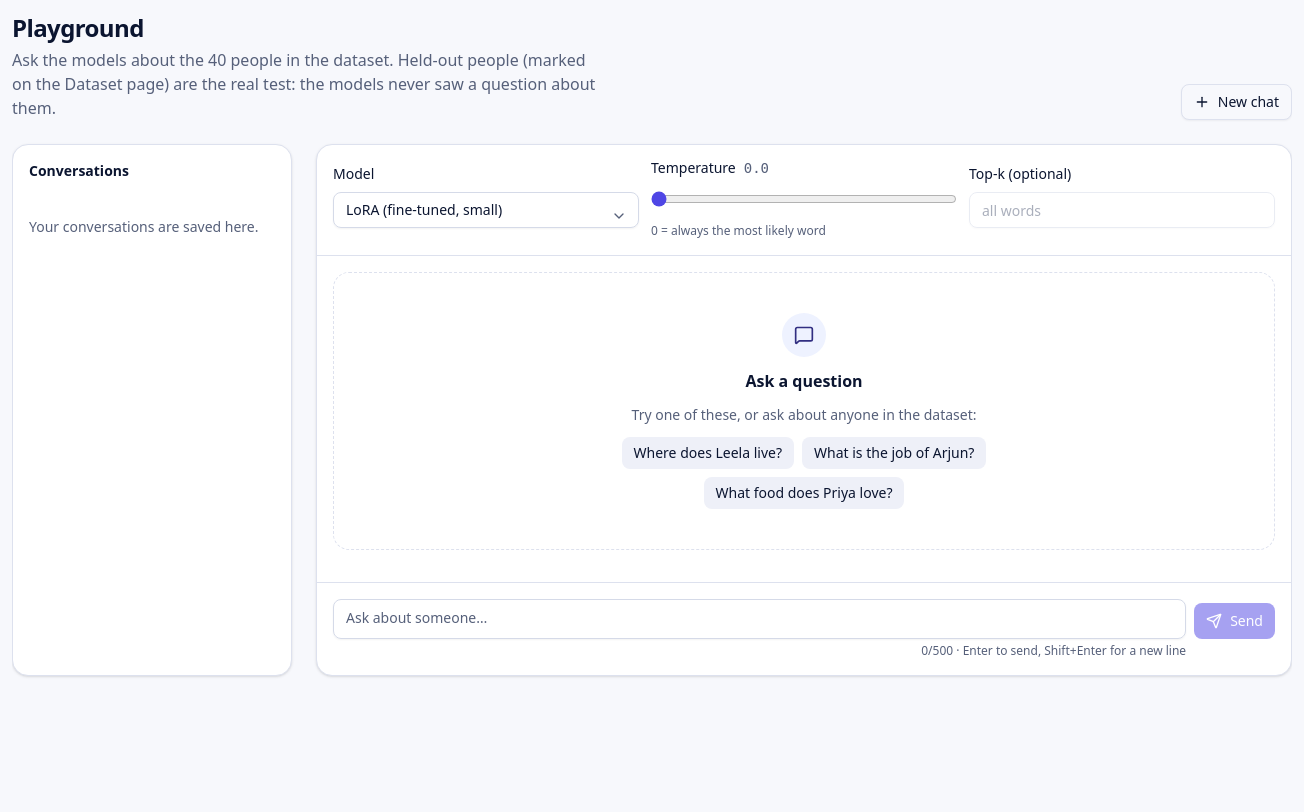
Test: Playground › sends a question and shows the answer
The width and height of the screenshot is (1304, 812).
Type "Where does Leela live?" into the text box named "Message" at (760, 619), box top-left (333, 599), bottom-right (1186, 639)
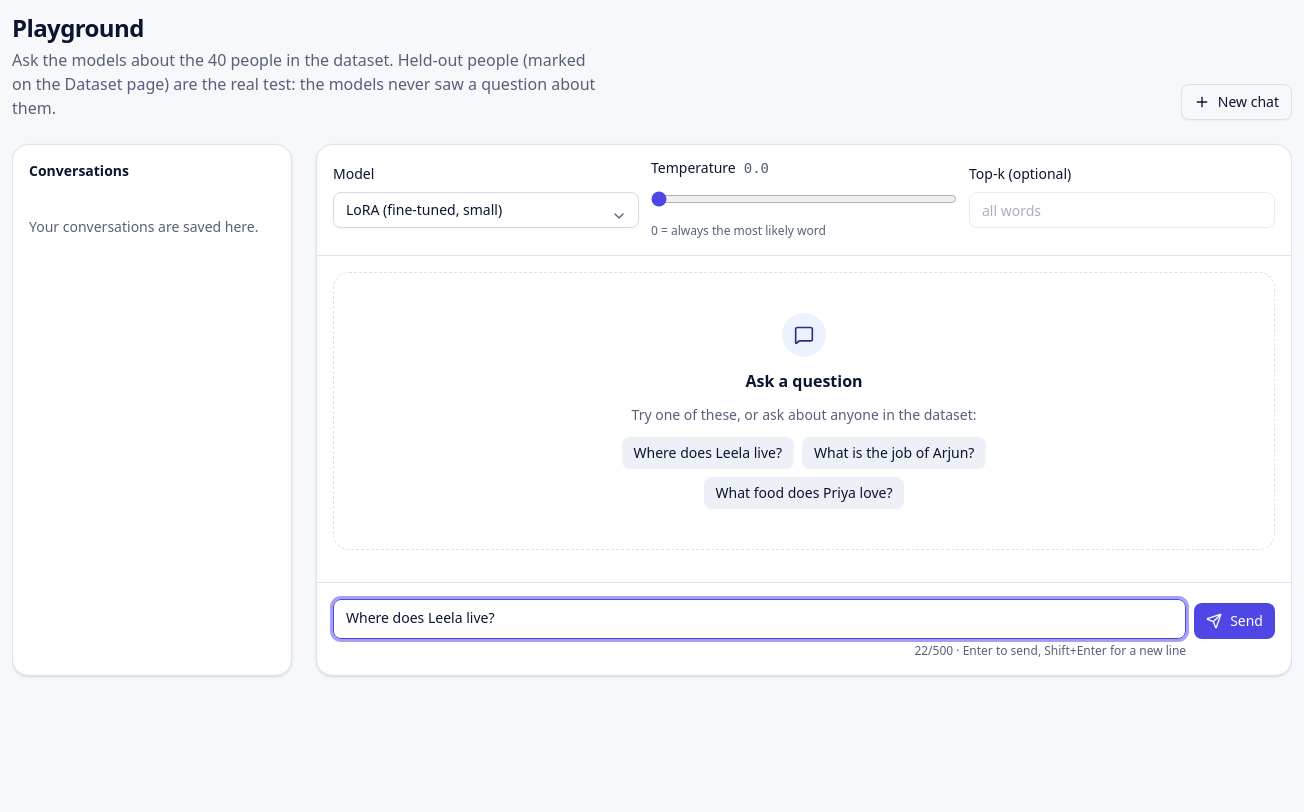
Click the button "Send" at (1235, 621), box top-left (1194, 603), bottom-right (1275, 639)
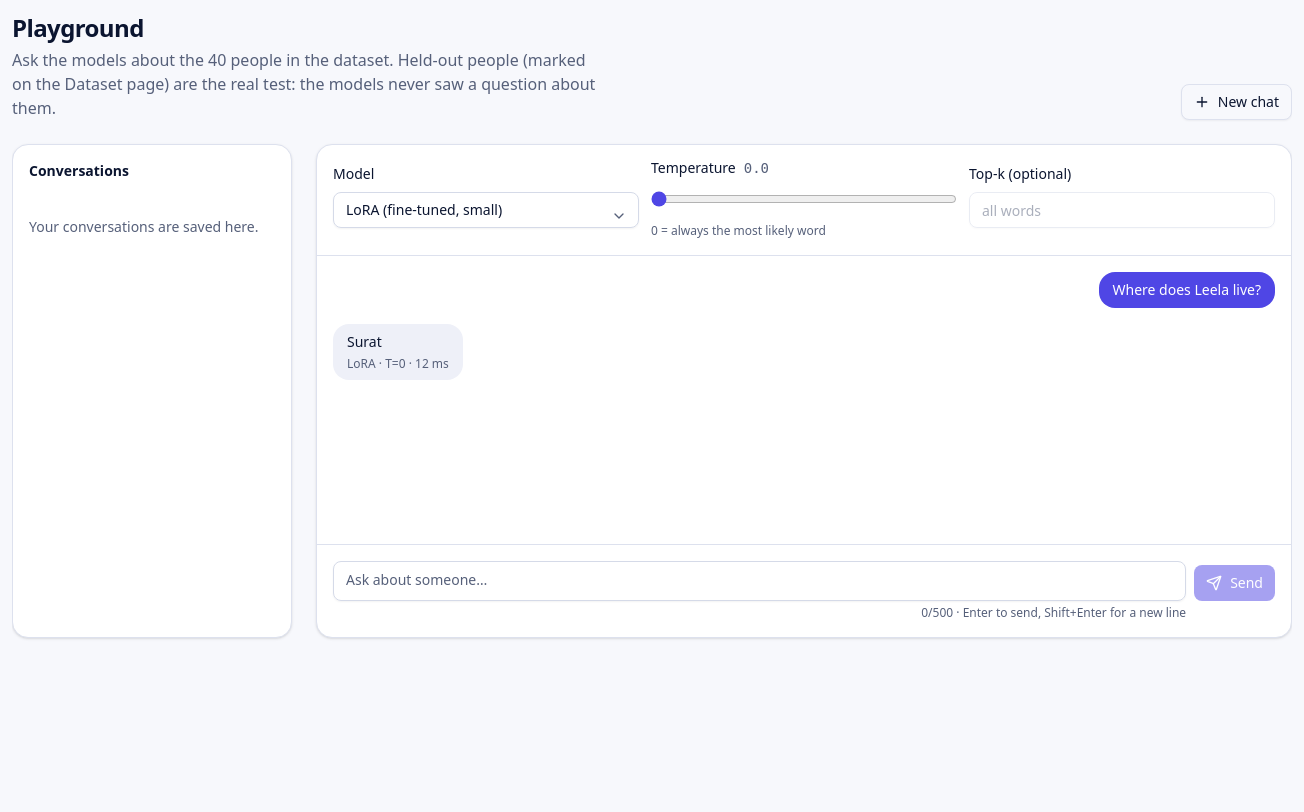
Result: the text "Surat" is shown at top-left (347, 332), bottom-right (382, 351)
Result: the text box named "Message" is empty at top-left (333, 561), bottom-right (1186, 601)
